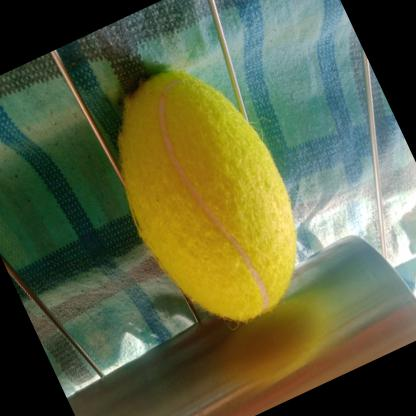Tennis: (78, 38, 336, 354)
